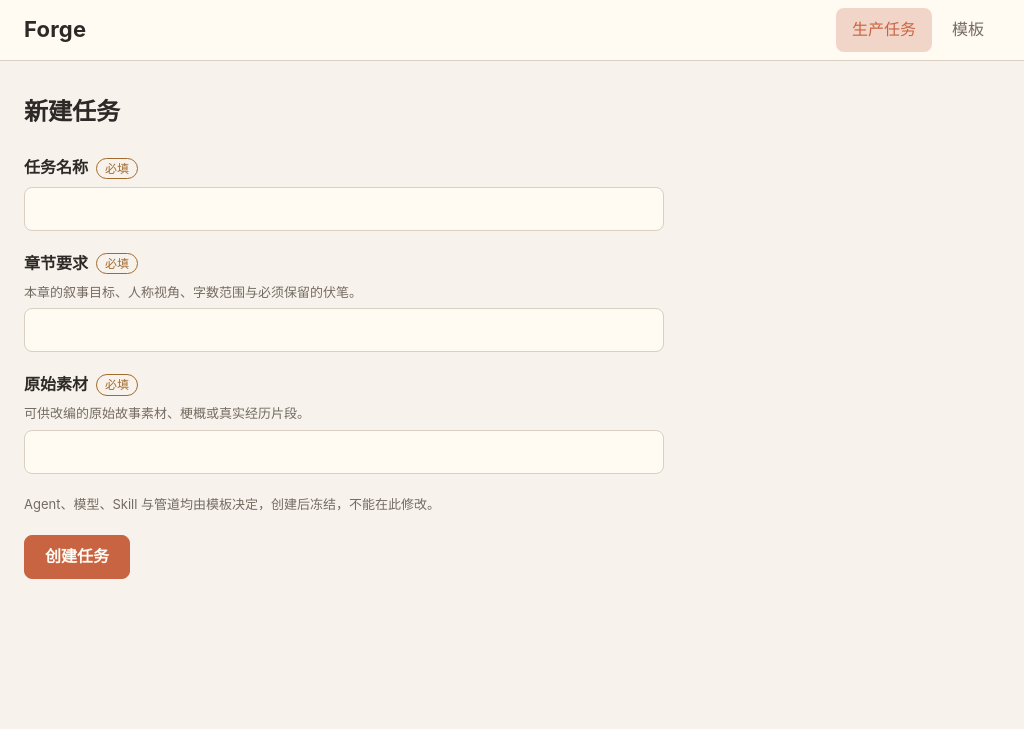
Test: NewTaskPage › blocks submission while required fields are empty and lists them
The image size is (1024, 729).
Click the button "创建任务" at (77, 556), box [24,534,130,578]
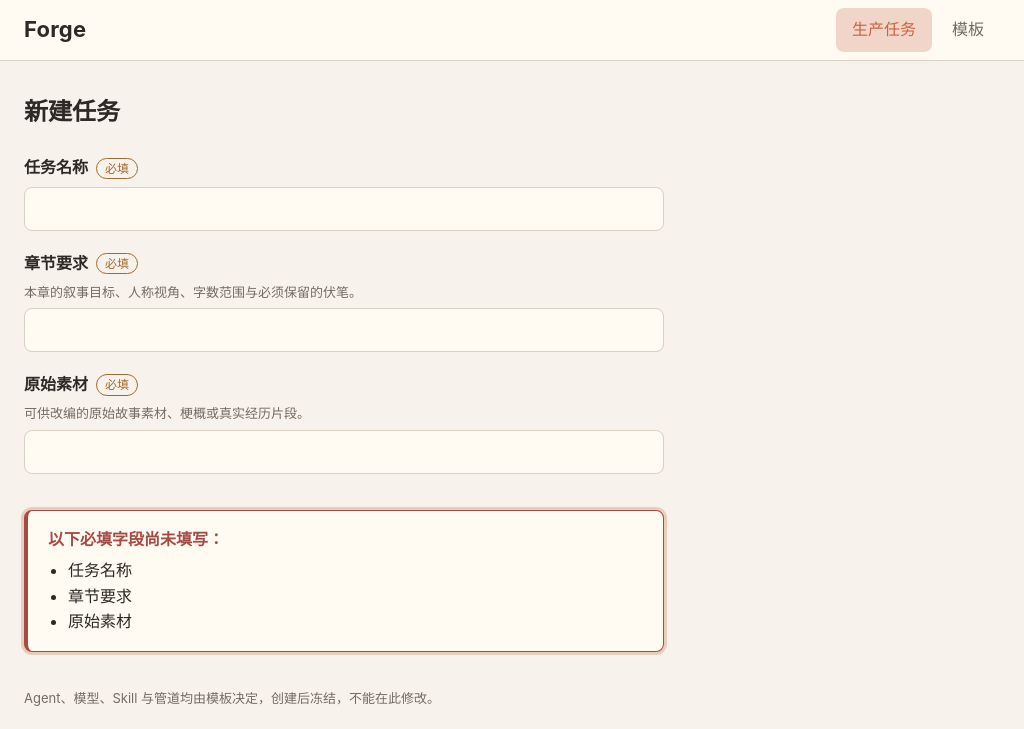
Now the list item "任务名称" is shown, box [68,560,132,580]
Now the list item "章节要求" is shown, box [68,586,132,606]
Now the list item "原始素材" is shown, box [68,611,132,631]
